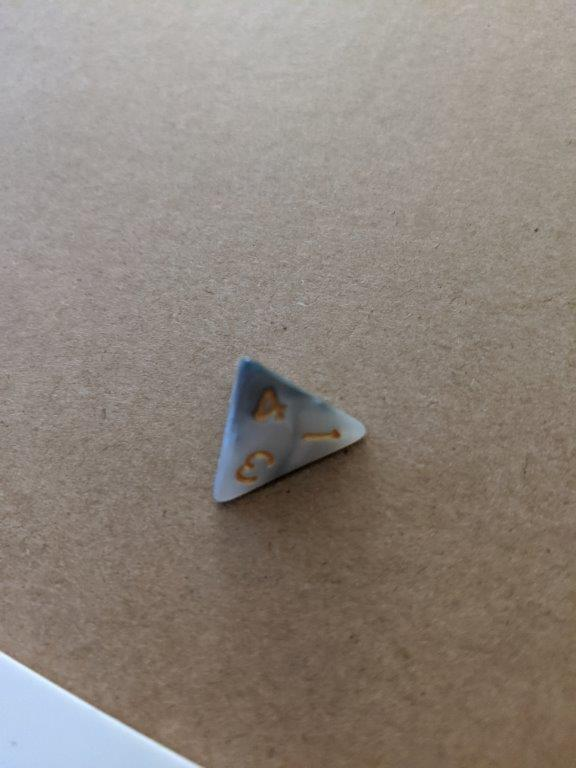d4-4: (209, 352, 370, 509)
